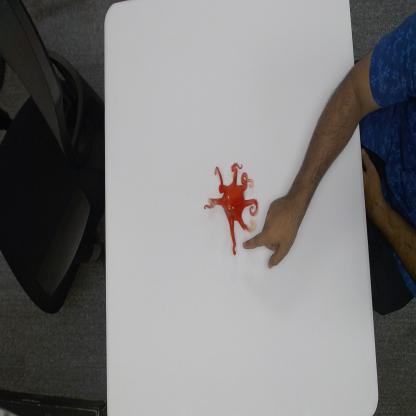Arm: (301, 57, 358, 219)
Hand: (242, 185, 302, 274)
Octopus: (203, 160, 259, 260)
